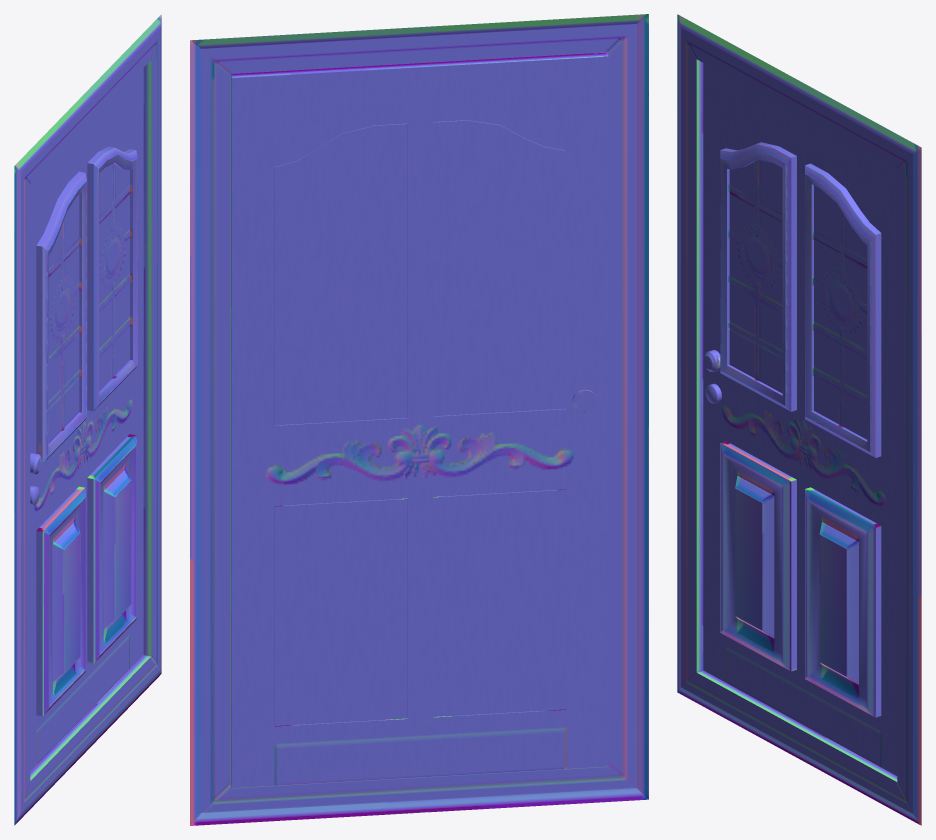
3 renders of one model, left to right at view 1: azimuth 30°, elevation 25°; view 2: azimuth 150°, elevation 25°; view 3: azimuth 270°, elevation 25°, orthographic. The views are drawn at different scales.
Visible parts, largest first — view 1: SM_doorHN__1_; view 2: SM_doorHN__1_; view 3: SM_doorHN__1_.
Part boxes in pixels (box(x1,y1,x2,y2)): SM_doorHN__1_: box(14, 14, 161, 825); SM_doorHN__1_: box(190, 14, 648, 825); SM_doorHN__1_: box(677, 14, 921, 825).
Size of the model in its own units: 108 by 255 by 83.22.
